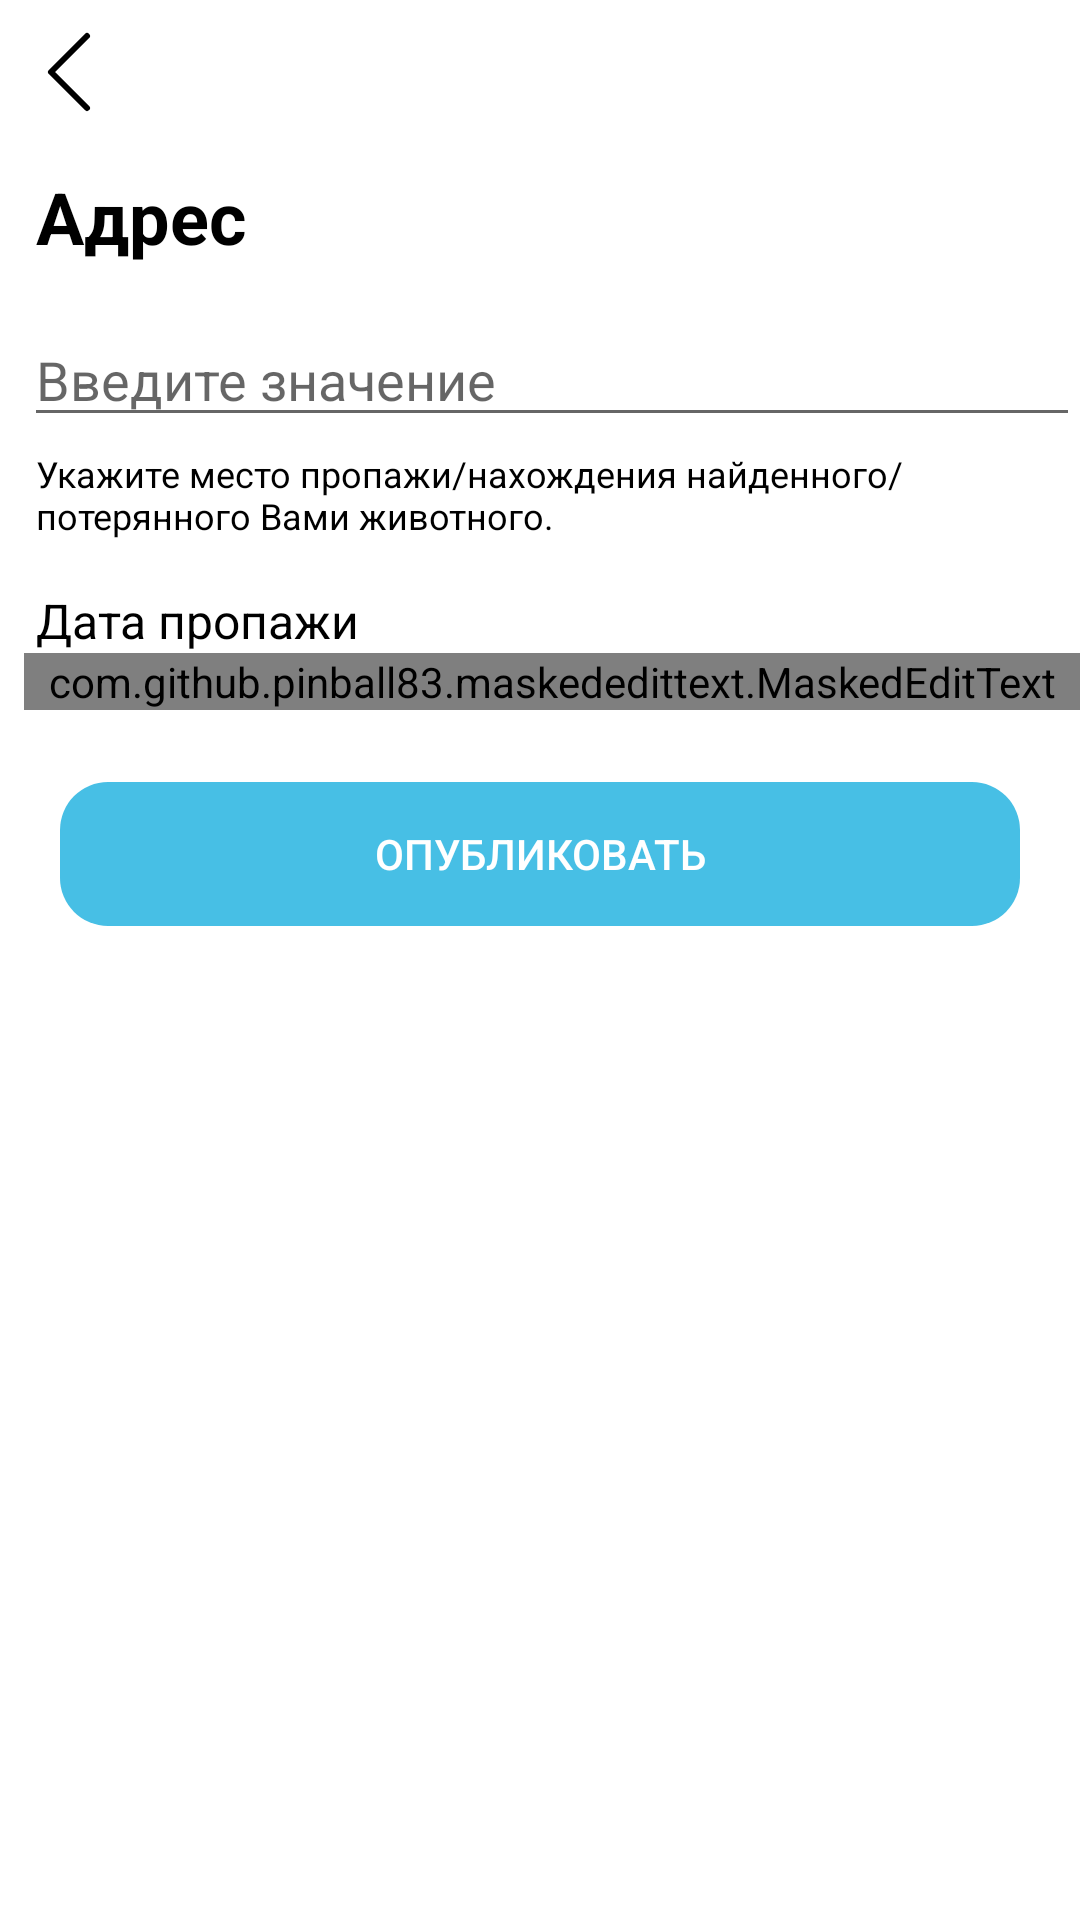

Icon bounding boxes for this 1080*1920 phone screenshot, format detection(x1, y1, x2, y2):
back arrow: detection(48, 32, 90, 111)
